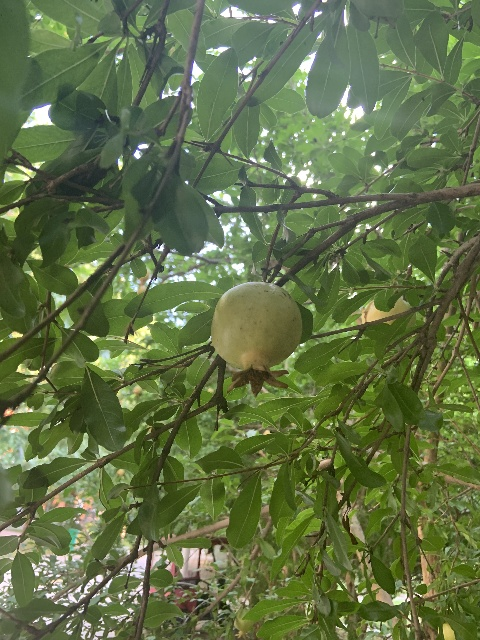mid-growth: (210, 281, 303, 397), (361, 297, 416, 326)
